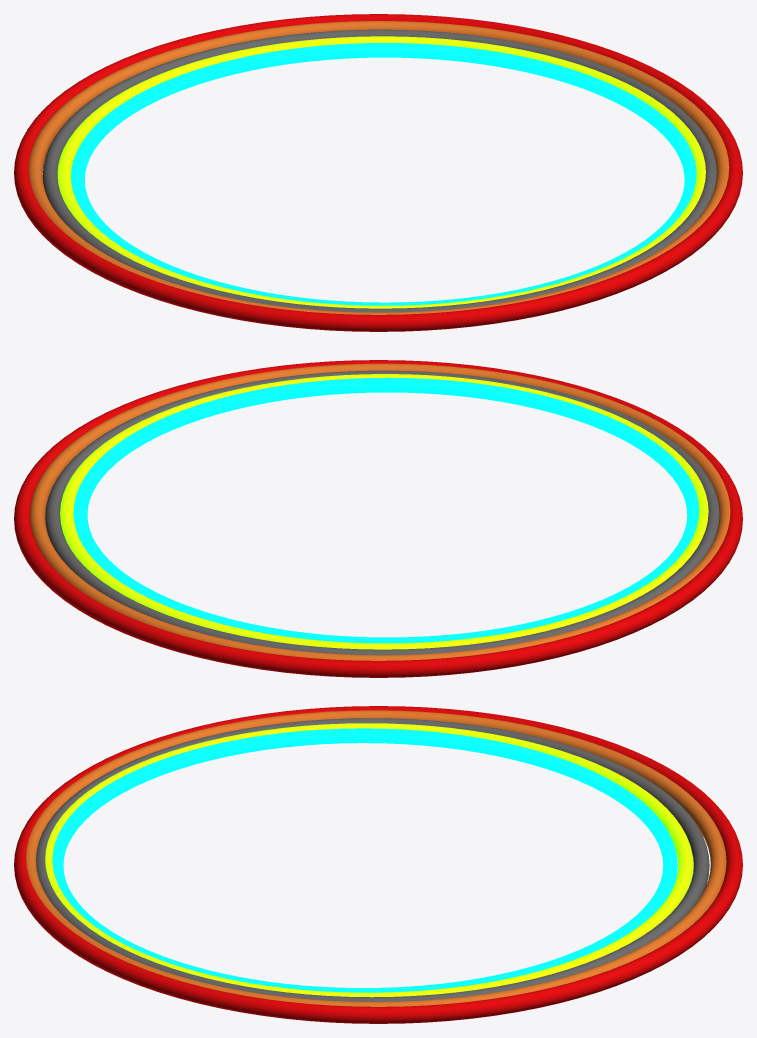
The model's file is RainBow2.glb.
3 renders of one model, top to bottom at view 1: azimuth 30°, elevation 25°; view 2: azimuth 150°, elevation 25°; view 3: azimuth 270°, elevation 25°, orthographic.
Parts seen in each view (by area): view 1: Torus.001, Torus.005, Torus.002, Torus.003, Torus.004; view 2: Torus.001, Torus.005, Torus.002, Torus.003, Torus.004; view 3: Torus.001, Torus.005, Torus.002, Torus.003, Torus.004.
Boxes of the visible parts, bbox=[...] form: Torus.001: bbox=[14, 14, 742, 331]; Torus.005: bbox=[71, 43, 696, 305]; Torus.002: bbox=[28, 21, 729, 314]; Torus.003: bbox=[42, 29, 716, 312]; Torus.004: bbox=[57, 36, 705, 308]; Torus.001: bbox=[14, 360, 742, 677]; Torus.005: bbox=[73, 377, 699, 643]; Torus.002: bbox=[30, 363, 730, 660]; Torus.003: bbox=[45, 370, 719, 655]; Torus.004: bbox=[60, 374, 708, 649]; Torus.001: bbox=[14, 706, 742, 1023]; Torus.005: bbox=[52, 728, 677, 992]; Torus.002: bbox=[26, 710, 726, 1006]; Torus.003: bbox=[36, 718, 709, 1001]; Torus.004: bbox=[45, 723, 693, 997].
Size of the model in its own units: 1.7 by 0.0413 by 1.7.
